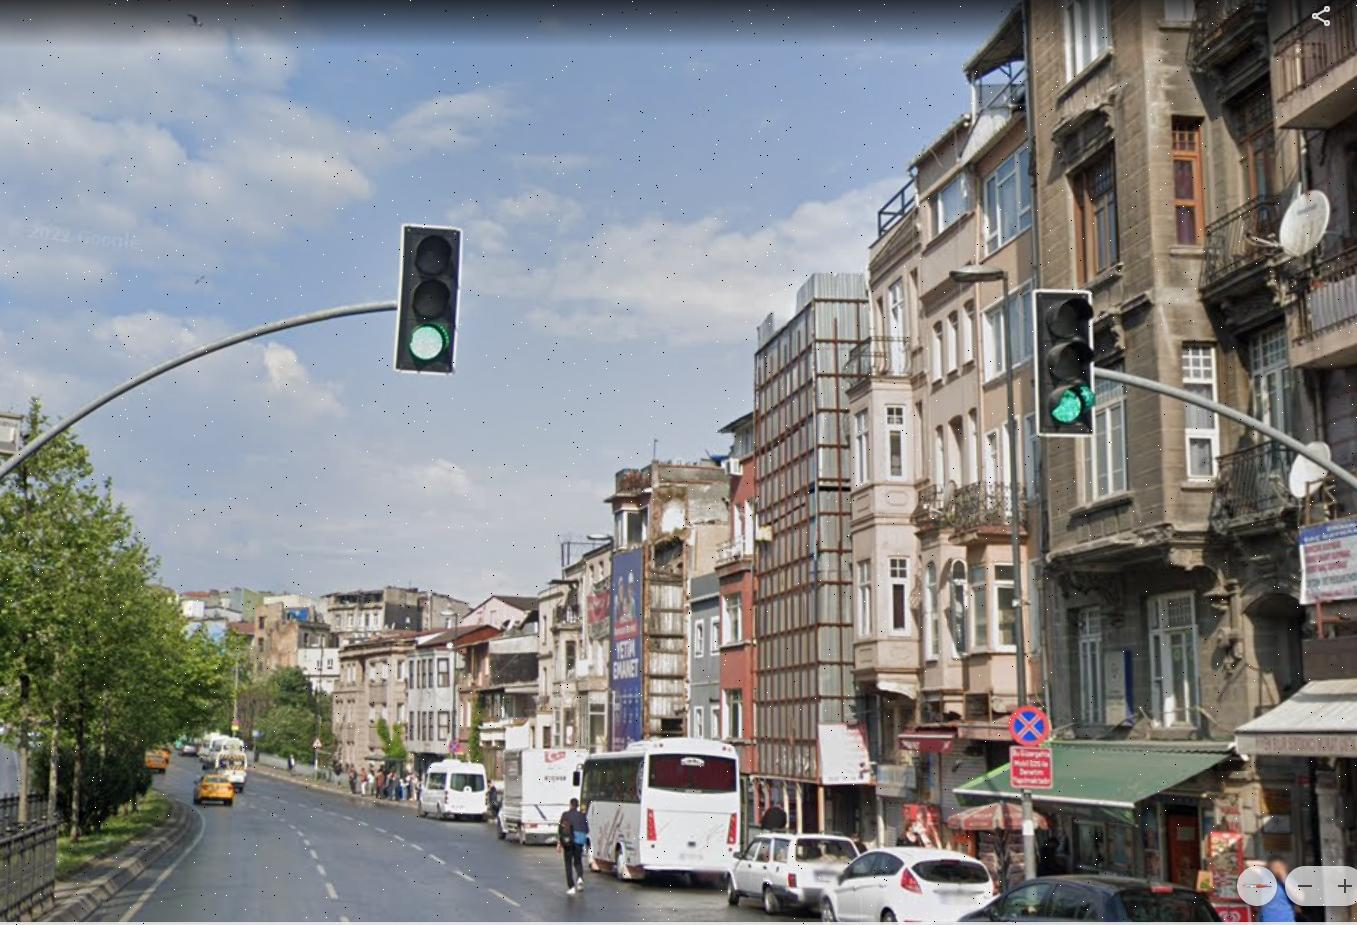greenlight: (1035, 291, 1100, 432), (403, 226, 453, 366)
